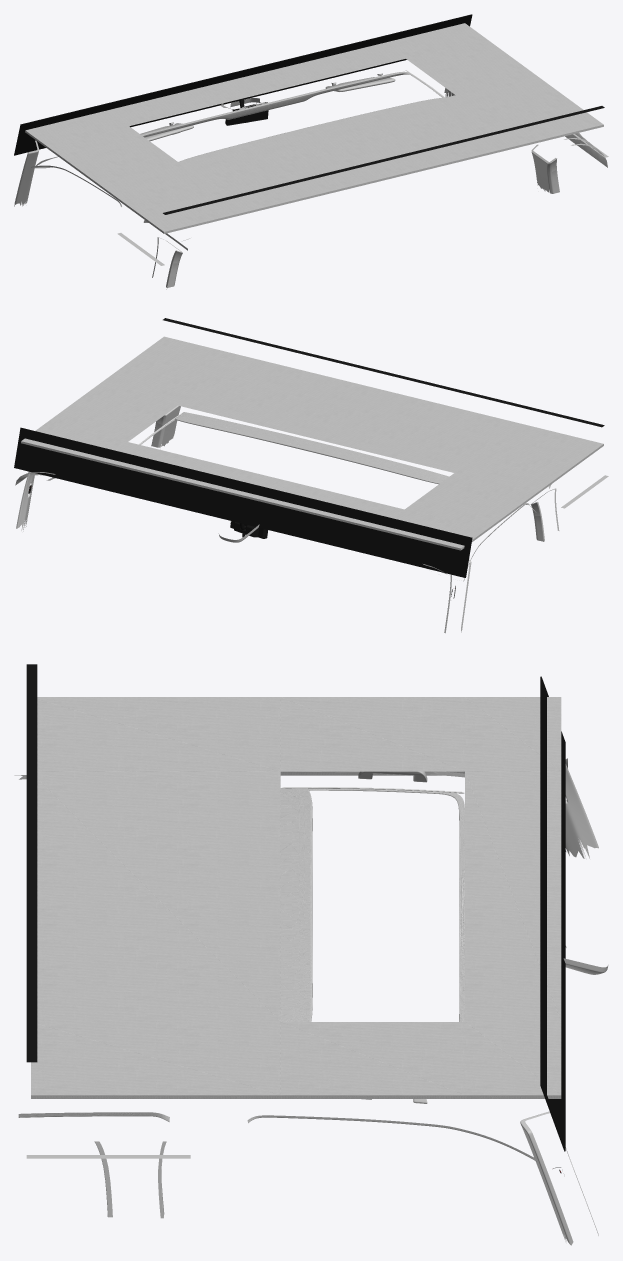
The model's file is cockpit_roof.gltf.
3 views of the same model, one above another, from view 1: azimuth 30°, elevation 25°; view 2: azimuth 150°, elevation 25°; view 3: azimuth 270°, elevation 25° (orthographic). The views are drawn at different scales.
Parts seen in each view (by area): view 1: Cockpit_RoofCloth_Roof, Cockpit_WindowsBlackSticker_Roof, Cockpit_WhitePlastic_Roof, Cockpit_Plastic45_Roof; view 2: Cockpit_RoofCloth_Roof, Cockpit_WindowsBlackSticker_Roof, Cockpit_WhitePlastic_Roof, Cockpit_Plastic45_Roof; view 3: Cockpit_RoofCloth_Roof, Cockpit_WindowsBlackSticker_Roof, Cockpit_WhitePlastic_Roof, Cockpit_Plastic45_Roof.
Boxes of the visible parts, box(x1,y1,x2,y2) form: Cockpit_RoofCloth_Roof: box(25, 23, 607, 250); Cockpit_WindowsBlackSticker_Roof: box(14, 14, 472, 155); Cockpit_WhitePlastic_Roof: box(14, 73, 608, 289); Cockpit_Plastic45_Roof: box(163, 98, 604, 214); Cockpit_RoofCloth_Roof: box(15, 336, 603, 581); Cockpit_WindowsBlackSticker_Roof: box(14, 427, 472, 577); Cockpit_WhitePlastic_Roof: box(16, 405, 608, 633); Cockpit_Plastic45_Roof: box(163, 318, 604, 538); Cockpit_RoofCloth_Roof: box(14, 697, 567, 1161); Cockpit_WindowsBlackSticker_Roof: box(540, 676, 565, 1151); Cockpit_WhitePlastic_Roof: box(26, 764, 608, 1245); Cockpit_Plastic45_Roof: box(26, 664, 37, 1062).
Size of the model in its own units: 2.27 by 0.4999 by 1.4.
Materials: 8 (2 with a texture image).
